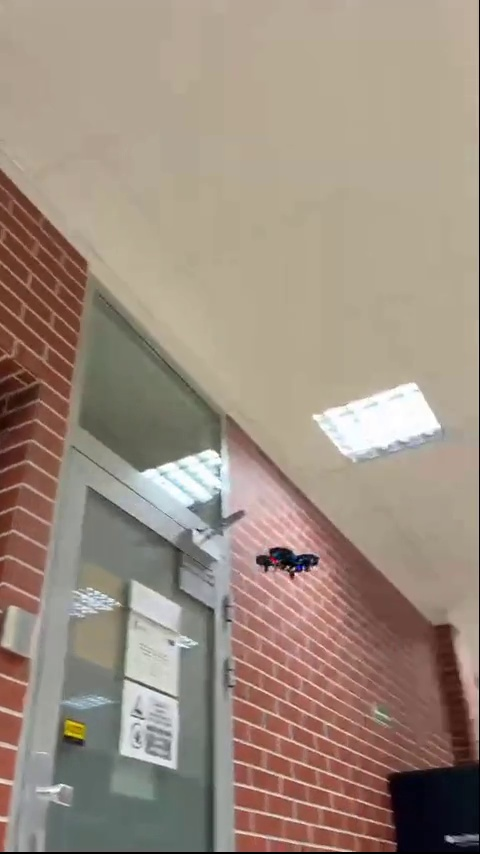drone: (255, 544, 318, 581)
